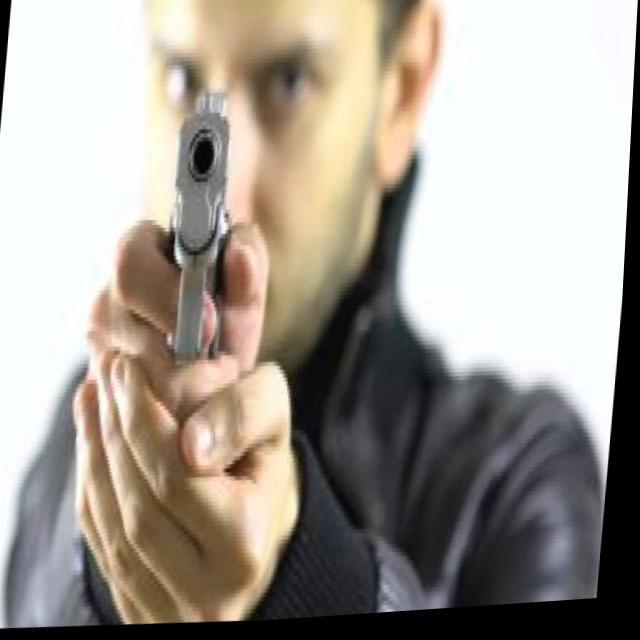weapon: (159, 84, 244, 366)
